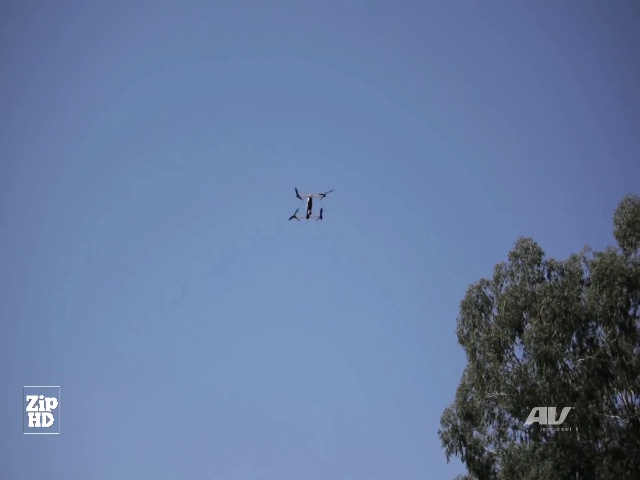drone: (288, 184, 335, 225)
